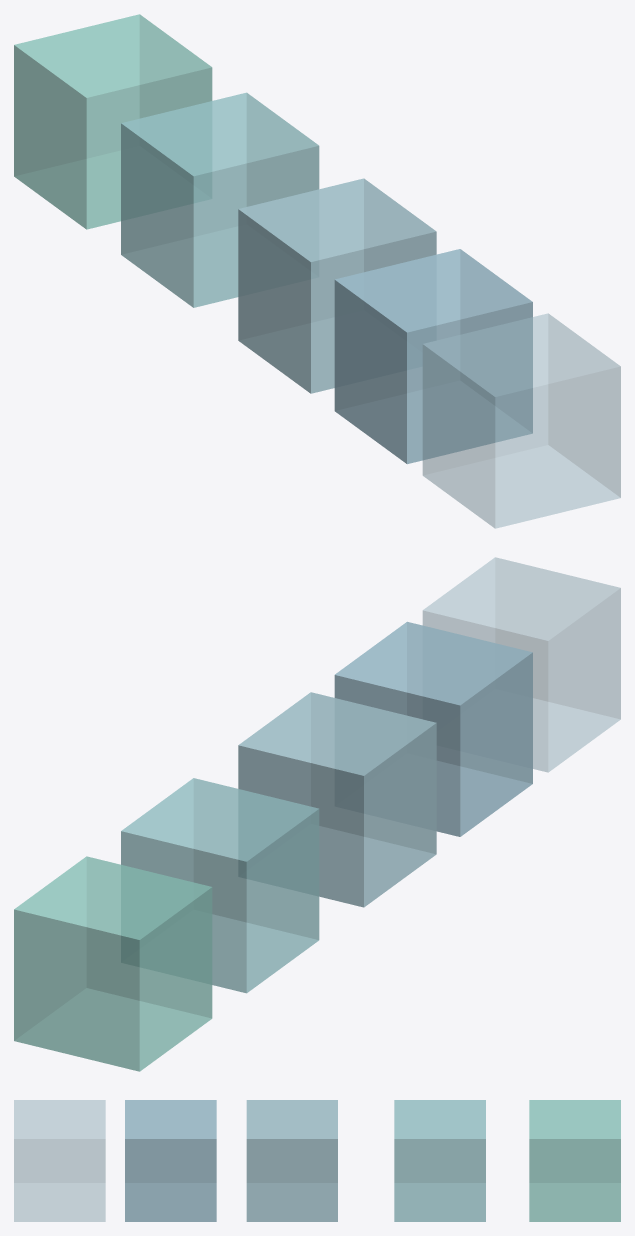
Rendered from blue water test.fbx.
3 renders of one model, top to bottom at view 1: azimuth 30°, elevation 25°; view 2: azimuth 150°, elevation 25°; view 3: azimuth 270°, elevation 25°, orthographic. The views are drawn at different scales.
Visible parts, largest first — view 1: 5,5,7, 0,0,3, 4,2,6, 8,3,6, 6,0,7; view 2: 8,3,6, 6,0,7, 4,2,6, 5,5,7, 0,0,3; view 3: 0,0,3, 4,2,6, 5,5,7, 6,0,7, 8,3,6.
Part boxes in pixels (x1,y1,x2,y2): 5,5,7: [334, 249, 532, 464]; 0,0,3: [422, 313, 620, 528]; 4,2,6: [121, 92, 319, 307]; 8,3,6: [14, 14, 212, 229]; 6,0,7: [238, 178, 436, 393]; 8,3,6: [14, 856, 212, 1071]; 6,0,7: [238, 692, 436, 907]; 4,2,6: [121, 778, 319, 993]; 5,5,7: [334, 621, 532, 836]; 0,0,3: [422, 557, 620, 772]; 0,0,3: [14, 1100, 105, 1221]; 4,2,6: [394, 1100, 485, 1221]; 5,5,7: [125, 1100, 216, 1221]; 6,0,7: [246, 1100, 337, 1221]; 8,3,6: [529, 1100, 620, 1221].
Size of the model in its own units: 200 by 1325 by 200.
